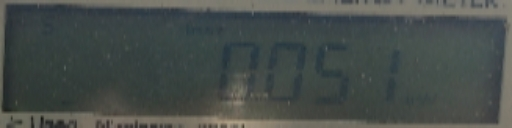0: (263, 38, 307, 104), (216, 36, 255, 105)
1: (385, 41, 401, 111)
5: (311, 38, 354, 109)
d: (254, 91, 267, 105)
